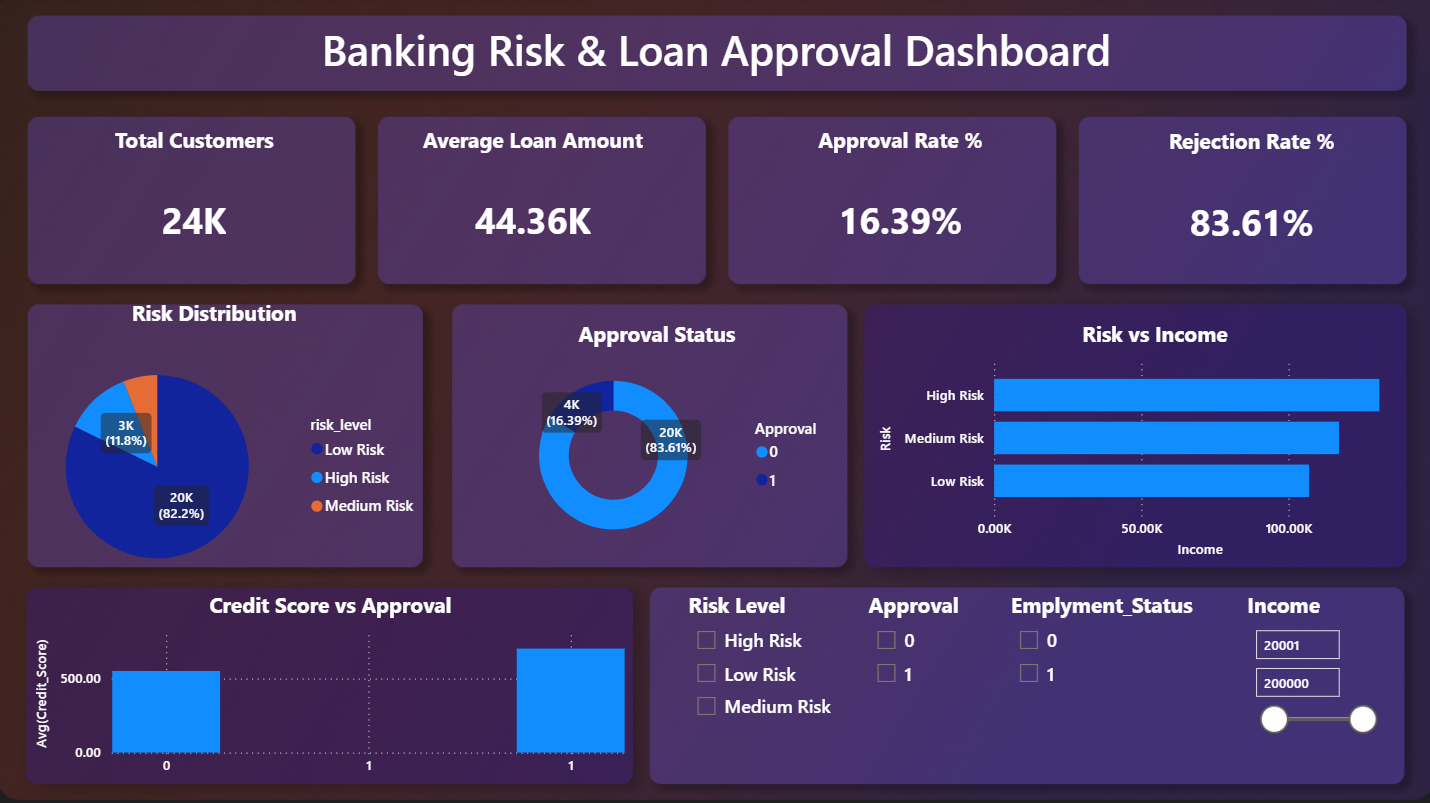

Layout of this report page (visuals, bound fields, positions):
{"tool":"powerbi","page":{"name":"Page 1","canvas":[1280,720],"ordinal":0},"visuals":[{"type":"cardVisual","title":"Total Customers","fields":{"Data":["processed_loan_data.Total_Customers"]},"box":[11.4,114.3,327.1,141.4],"z":0},{"type":"cardVisual","title":"Average Loan Amount","fields":{"Data":["processed_loan_data.Avg_Loan"]},"box":[312.9,114.3,327.1,141.4],"z":1000},{"type":"cardVisual","title":"Approval Rate %","fields":{"Data":["processed_loan_data.Approval_Rate"]},"box":[640,114.3,327.1,141.4],"z":2000},{"type":"cardVisual","title":"Rejection Rate %","fields":{"Data":["processed_loan_data.Rejection_Rate"]},"box":[952.9,115.7,327.1,141.4],"z":3000},{"type":"pieChart","title":"Risk Distribution","fields":{"Category":["processed_loan_data.risk_level"],"Y":["processed_loan_data.Total_Customers"]},"box":[1.4,268.6,382.9,275.7],"z":4000},{"type":"donutChart","title":"Approval Status","fields":{"Y":["processed_loan_data.Total_Customers"],"Category":["processed_loan_data.Approval"]},"box":[417.1,287.1,338.6,217.1],"z":5000},{"type":"barChart","title":"Risk vs Income","fields":{"Category":["processed_loan_data.risk_level"],"Y":["processed_loan_data.Avg_Income"]},"box":[780,287.1,500,217.1],"z":5001},{"type":"columnChart","title":"Credit Score vs Approval","fields":{"Y":["processed_loan_data.Avg_Credit_Score"],"Category":["processed_loan_data.Approval"]},"box":[28.6,528.6,534.3,174.3],"z":5002},{"type":"slicer","title":"Risk Level","fields":{"Values":["processed_loan_data.risk_level"]},"box":[610,528.6,170,138.6],"z":5003},{"type":"slicer","title":"Approval","fields":{"Values":["processed_loan_data.Approval"]},"box":[770,528.6,170,138.6],"z":5004},{"type":"slicer","title":"Emplyment_Status","fields":{"Values":["processed_loan_data.Employment_Status"]},"box":[897.1,528.6,194.3,138.6],"z":5005},{"type":"slicer","title":"Income","fields":{"Values":["processed_loan_data.Income"]},"box":[1107.1,528.6,128.6,160],"z":5006},{"type":"textbox","box":[192.9,17.1,894.3,65.7],"z":5007}]}

Visuals, with their boxes in screenshot pixels (x1, y1, x2, y2), scaled from the page's 1280x720 canvas onto the 1430x803 screenshot:
"Total Customers" cardVisual: <box>13,127,378,285</box>
"Average Loan Amount" cardVisual: <box>350,127,715,285</box>
"Approval Rate %" cardVisual: <box>715,127,1080,285</box>
"Rejection Rate %" cardVisual: <box>1065,129,1429,287</box>
"Risk Distribution" pieChart: <box>2,300,429,607</box>
"Approval Status" donutChart: <box>466,320,844,562</box>
"Risk vs Income" barChart: <box>871,320,1429,562</box>
"Credit Score vs Approval" columnChart: <box>32,590,629,784</box>
"Risk Level" slicer: <box>681,590,871,744</box>
"Approval" slicer: <box>860,590,1050,744</box>
"Emplyment_Status" slicer: <box>1002,590,1219,744</box>
"Income" slicer: <box>1237,590,1381,768</box>
textbox: <box>216,19,1215,92</box>
